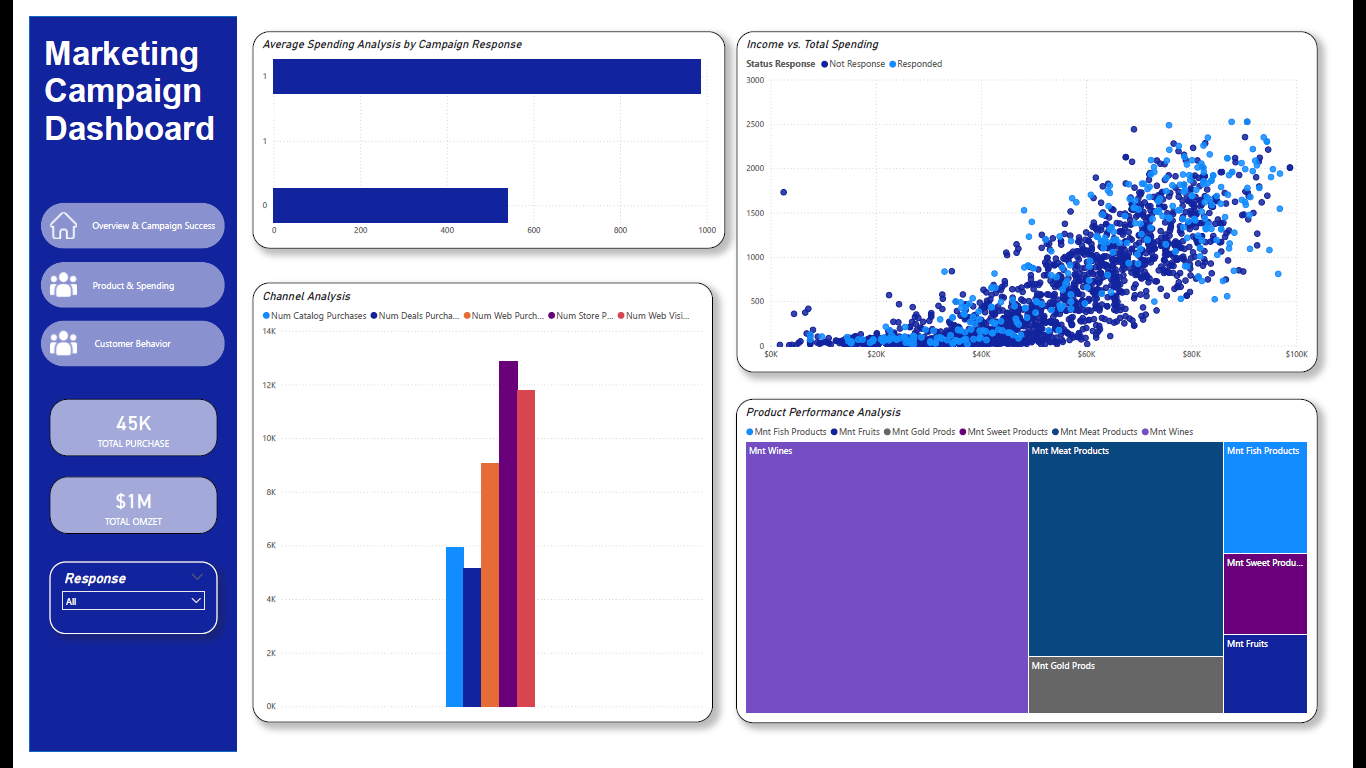

Layout of this report page (visuals, bound fields, positions):
{"tool":"powerbi","page":{"name":"Product & Spending","canvas":[1920,1080],"ordinal":1},"visuals":[{"type":"shape","box":[0,0,304.6,1080],"z":0},{"type":"textbox","box":[17.3,21.6,278.6,205.2],"z":1000},{"type":"actionButton","box":[17.3,274.3,270,67],"z":3000},{"type":"actionButton","box":[17.3,360.7,270,67],"z":4000},{"type":"actionButton","box":[17.3,447.1,270,67],"z":5000},{"type":"treemap","title":"Product Performance Analysis","fields":{"Values":["Sum(Data Cleaning.Mnt Fish Products)","Sum(Data Cleaning.Mnt Fruits)","Sum(Data Cleaning.Mnt Gold Prods)","Sum(Data Cleaning.Mnt Sweet Products)","Sum(Data Cleaning.Mnt Meat Products)","Sum(Data Cleaning.Mnt Wines)"]},"box":[1038,562,854,476],"z":6000},{"type":"clusteredBarChart","title":"Average Spending Analysis by Campaign Response","fields":{"Y":["Avg(Data Cleaning.Total Spending)"],"Category":["Data Cleaning.Response"]},"box":[328.3,21.6,693.4,319.7],"z":7000},{"type":"scatterChart","title":"Income vs. Total Spending","fields":{"X":["Sum(Data Cleaning.Income)"],"Y":["Sum(Data Cleaning.Total Spending)"],"Category":["Data Cleaning.ID"],"Series":["Data Cleaning.Status Response"]},"box":[1039,21.6,853.2,501.1],"z":8000},{"type":"clusteredColumnChart","title":"Channel Analysis ","fields":{"Y":["Sum(Data Cleaning.Num Catalog Purchases)","Sum(Data Cleaning.Num Deals Purchases)","Sum(Data Cleaning.Num Web Purchases)","Sum(Data Cleaning.Num Store Purchases)","Sum(Data Cleaning.Num Web Visits Month)"]},"box":[328.3,391,676.1,645.8],"z":9000},{"type":"card","fields":{"Values":["Sum(Data Cleaning.Total Purchase)"]},"box":[30.2,561.6,246.2,84.2],"z":10000},{"type":"card","fields":{"Values":["Data Cleaning.TOTAL OMZET"]},"box":[30.2,676.1,246.2,84.2],"z":11000},{"type":"slicer","title":"RESPONSE","fields":{"Values":["Data Cleaning.Response"]},"box":[30.2,801.4,246.2,105.8],"z":12000}]}

Visuals, with their boxes in screenshot pixels (x1, y1, x2, y2), scaled from the page's 1920x1080 canvas onto the 1366x768 screenshot:
shape: bbox=(0, 0, 217, 767)
textbox: bbox=(12, 15, 211, 161)
actionButton: bbox=(12, 195, 204, 243)
actionButton: bbox=(12, 256, 204, 304)
actionButton: bbox=(12, 318, 204, 366)
"Product Performance Analysis" treemap: bbox=(738, 400, 1346, 738)
"Average Spending Analysis by Campaign Response" clusteredBarChart: bbox=(234, 15, 727, 243)
"Income vs. Total Spending" scatterChart: bbox=(739, 15, 1346, 372)
"Channel Analysis " clusteredColumnChart: bbox=(234, 278, 715, 737)
card - Sum(Data Cleaning.Total Purchase): bbox=(21, 399, 197, 459)
card - Data Cleaning.TOTAL OMZET: bbox=(21, 481, 197, 541)
"RESPONSE" slicer: bbox=(21, 570, 197, 645)
